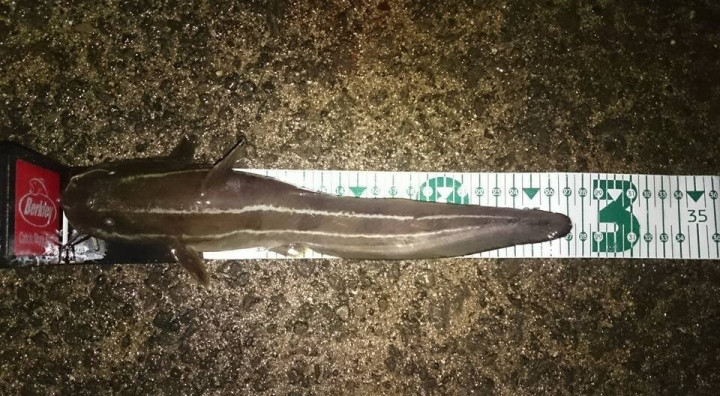gonzui: (52, 159, 586, 280)
